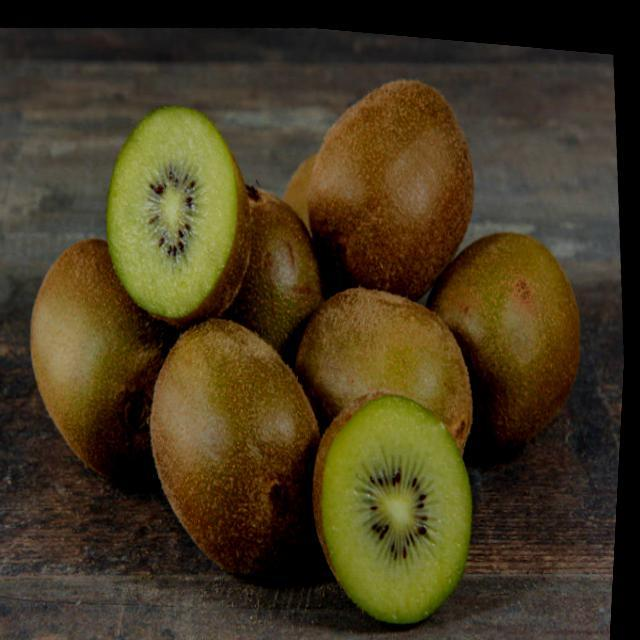kiwi: (137, 298, 342, 585), (295, 58, 491, 303), (413, 208, 597, 457), (20, 227, 186, 495), (288, 265, 488, 466)
